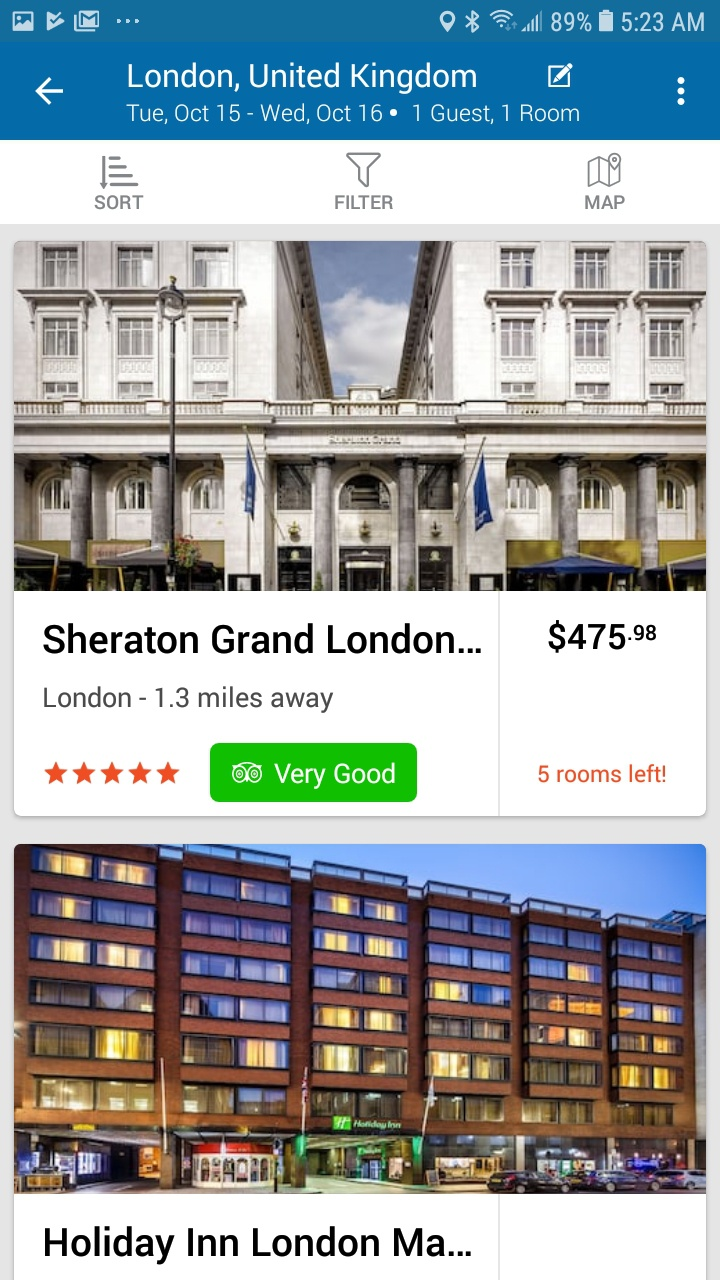Icon: (45, 761, 181, 785), (99, 153, 141, 189), (586, 153, 622, 188), (34, 77, 64, 107), (547, 62, 574, 89), (676, 73, 685, 107)
Image: (14, 843, 707, 1194), (15, 242, 706, 592), (345, 150, 382, 187)
Text: (44, 1225, 472, 1266), (43, 622, 482, 655), (128, 62, 477, 96), (126, 104, 580, 126), (44, 685, 334, 714), (548, 620, 657, 654), (538, 763, 666, 783), (333, 191, 393, 209), (93, 193, 143, 211), (585, 194, 626, 210)
TextButton: (210, 743, 418, 803)
UpperTaskBar: (1, 1, 720, 43)
